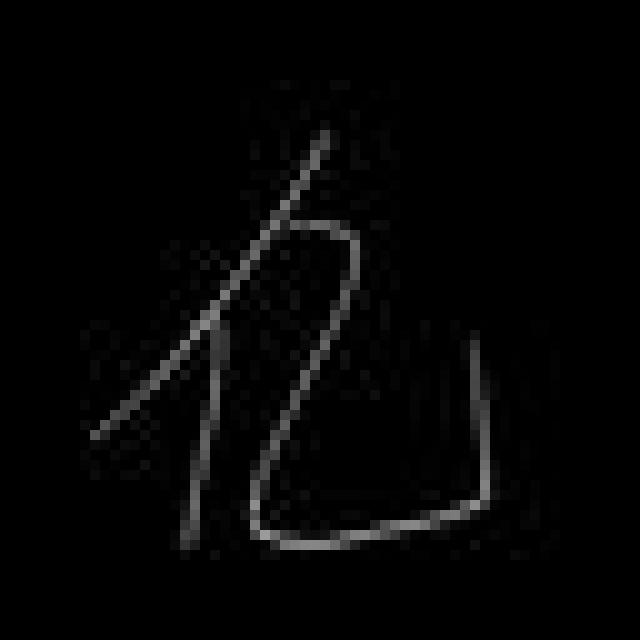100000 -a hundred thousand-: (76, 125, 501, 563)
